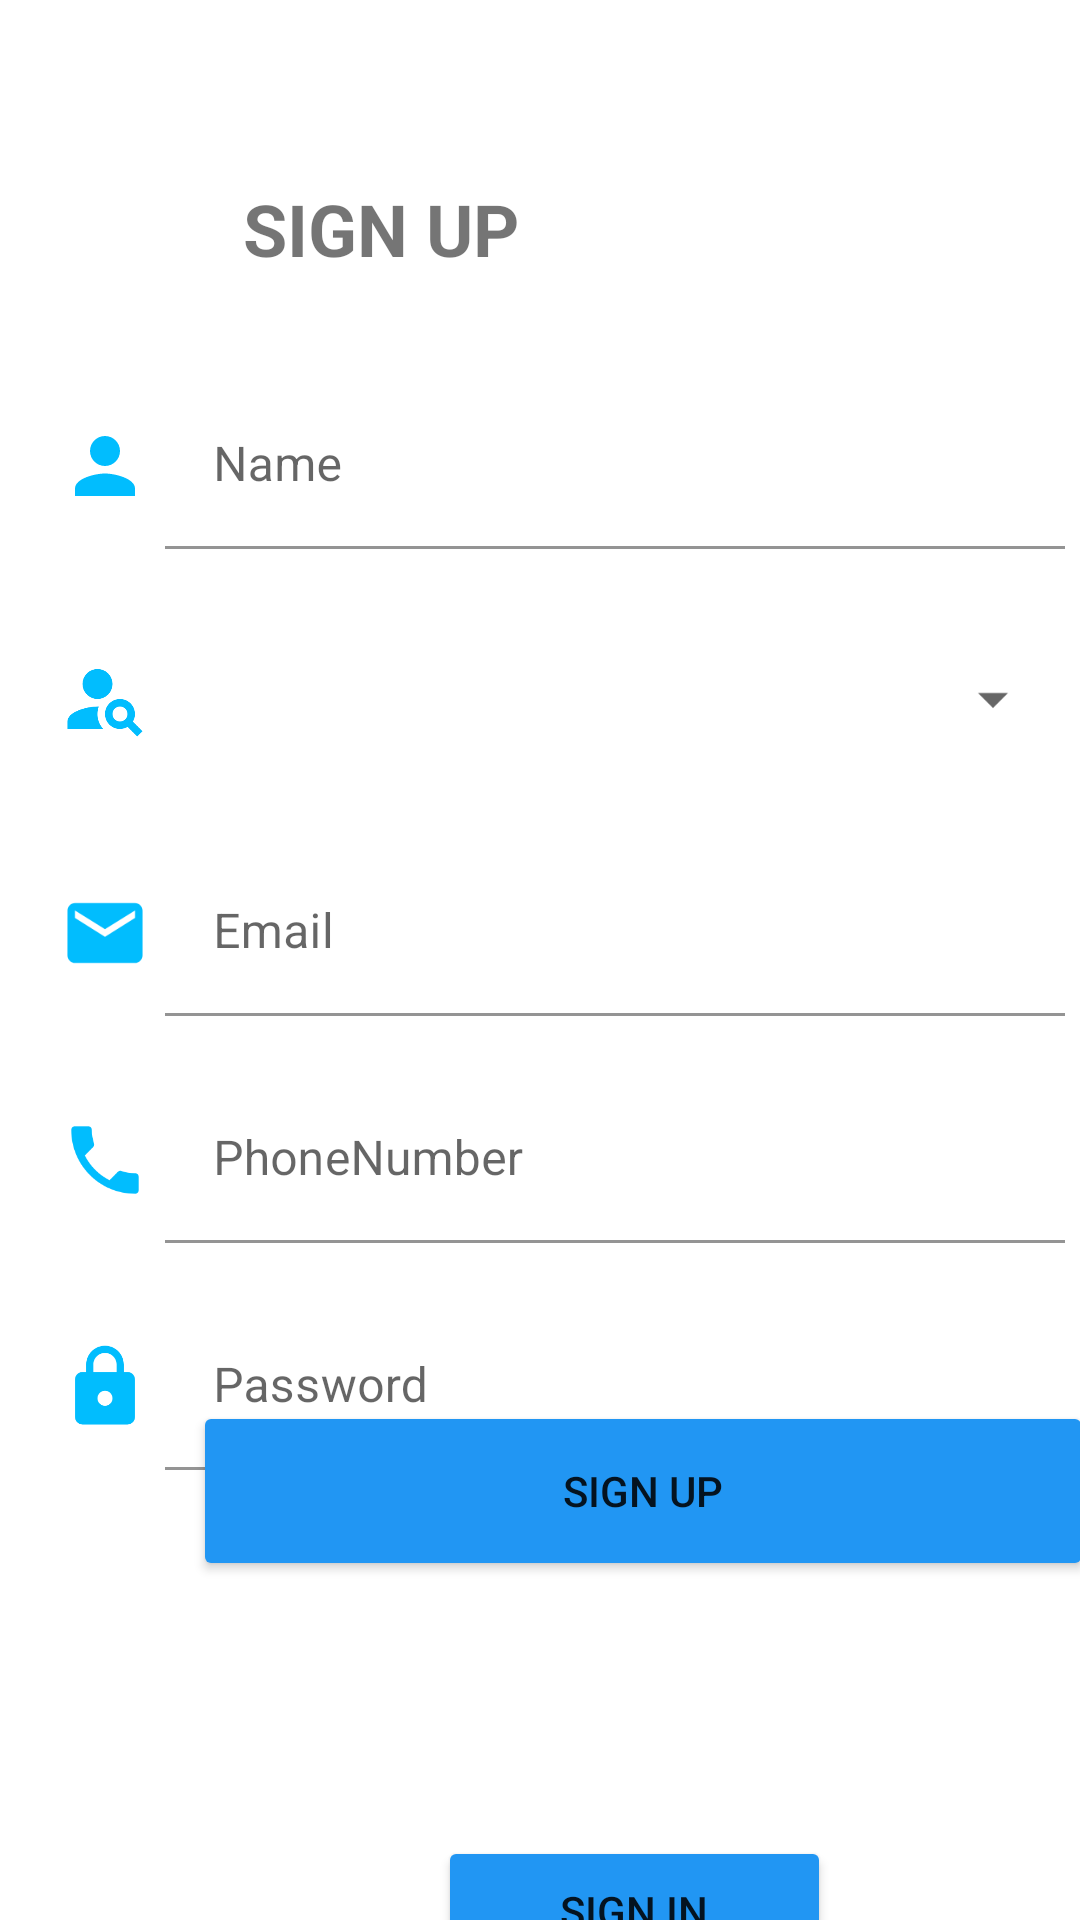

Named icons in this screenshot (1080×1920) and their centers, point (x, y):
local phone: point (105, 1160)
lock: point (105, 1385)
person: point (105, 466)
person search: point (105, 703)
